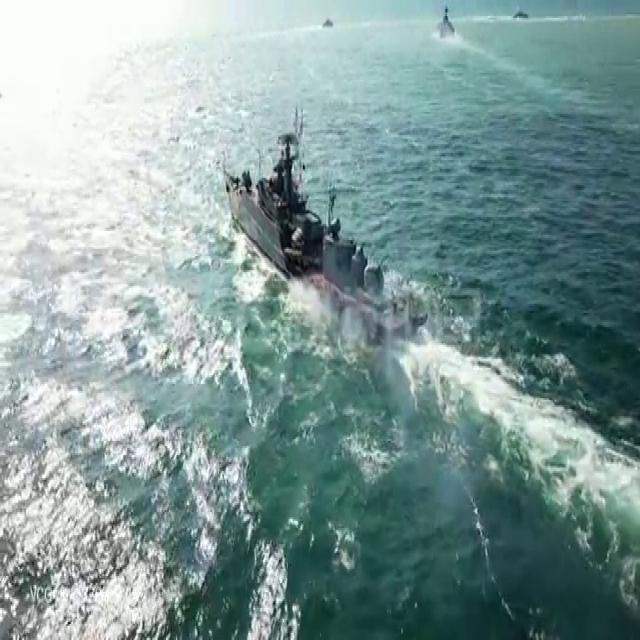navalvessels: (221, 119, 423, 344), (436, 0, 456, 38), (514, 6, 528, 22), (320, 14, 334, 28)
